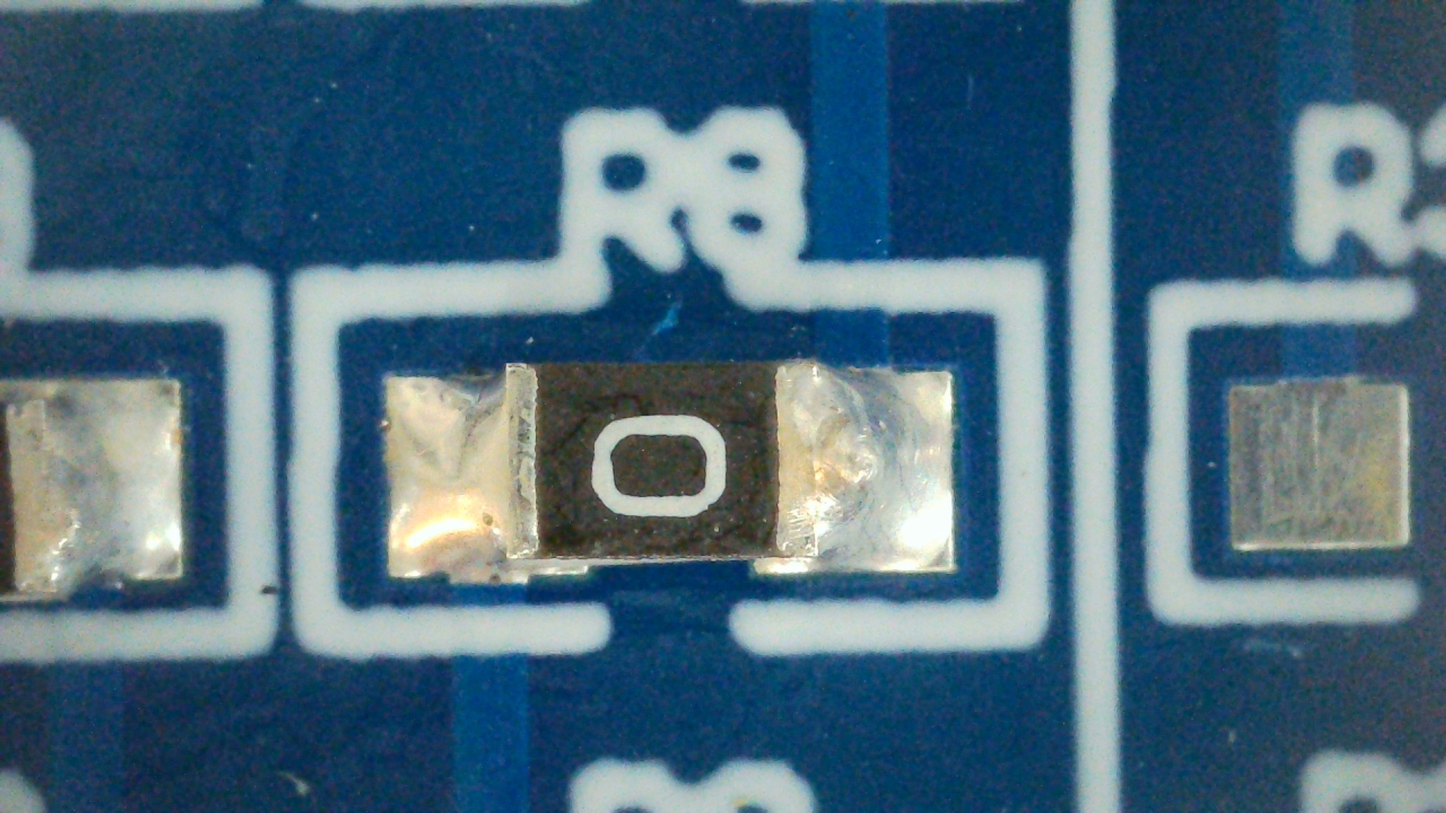OK: (386, 367, 954, 575)
